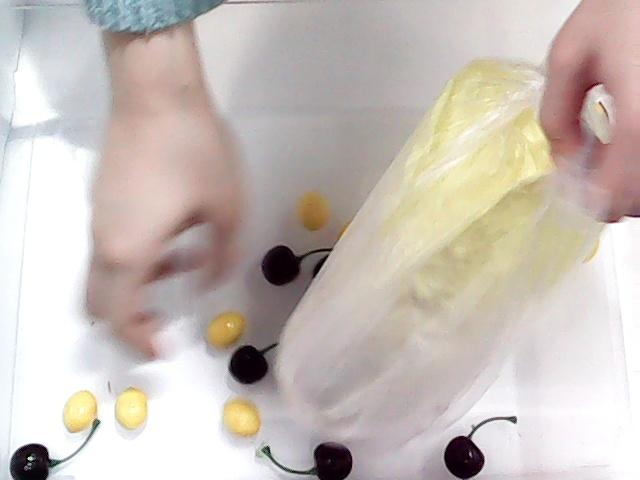napa cabbage: (257, 66, 619, 458)
